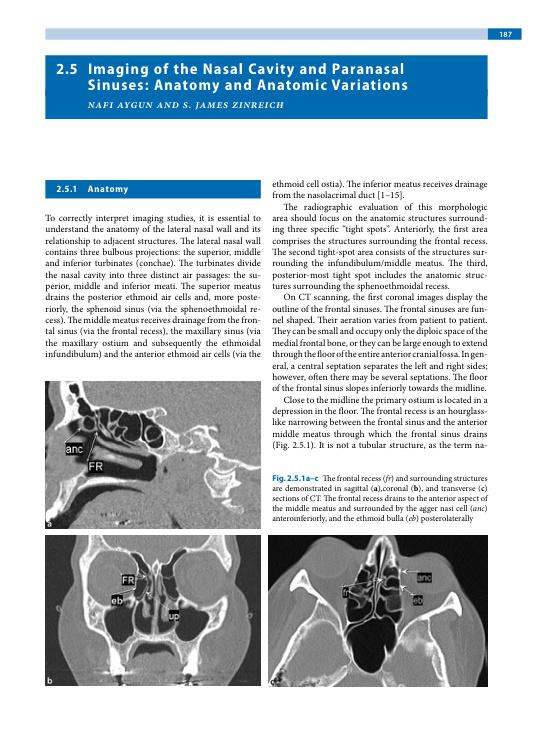caption: (271, 473, 489, 524), (46, 676, 53, 685), (47, 521, 53, 528), (270, 679, 276, 686)
chapter-heading: (86, 61, 409, 96)
image: (268, 534, 488, 687), (45, 535, 261, 686), (45, 381, 261, 529)
section-heading: (87, 185, 129, 195)
text: (270, 178, 488, 453), (43, 212, 262, 360)
